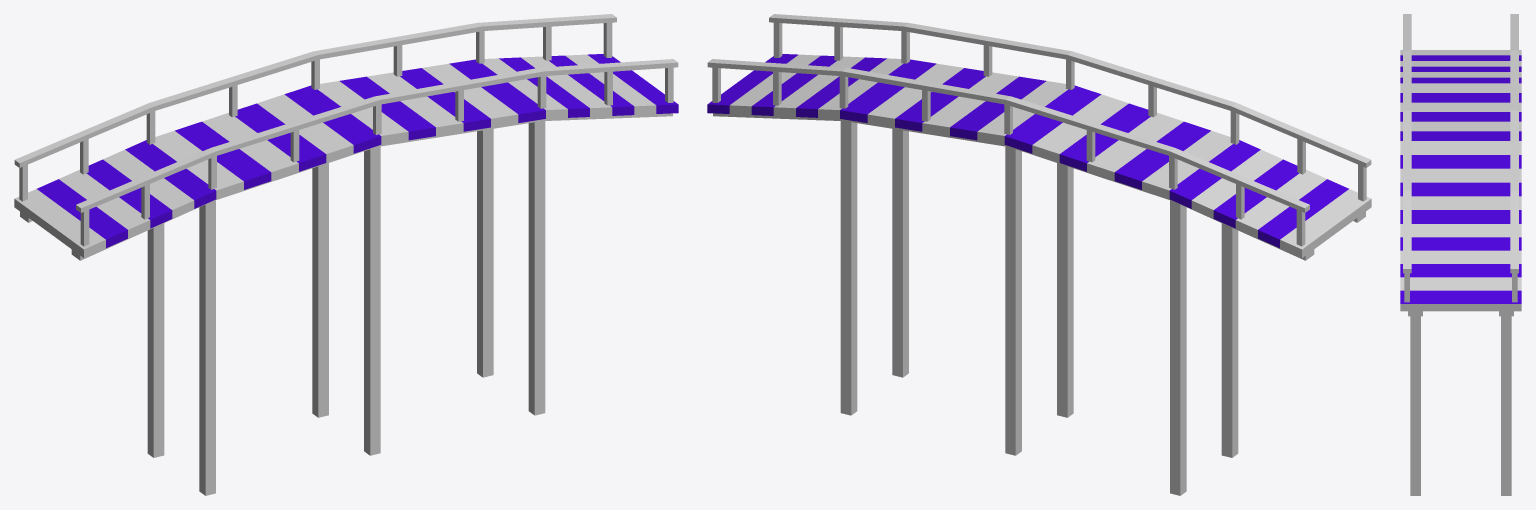
File: bridge_high.fbx
The picture shows the model from 3 angles, left to right: view 1: azimuth 30°, elevation 25°; view 2: azimuth 150°, elevation 25°; view 3: azimuth 270°, elevation 25°; orthographic projection. The views are drawn at different scales.
Visible parts, largest first — view 1: Cube.004; view 2: Cube.004; view 3: Cube.004.
Boxes of the visible parts, box(x1,y1,x2,y2) form: Cube.004: box(14, 14, 678, 495); Cube.004: box(707, 14, 1371, 495); Cube.004: box(1400, 14, 1521, 495).
Size of the model in its own units: 1470 by 841 by 296.
